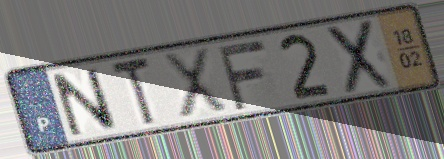2: (277, 31, 333, 101)
F: (213, 36, 269, 113)
N: (48, 66, 123, 139)
T: (108, 53, 158, 131)
X: (324, 16, 395, 98), (159, 45, 232, 120)
